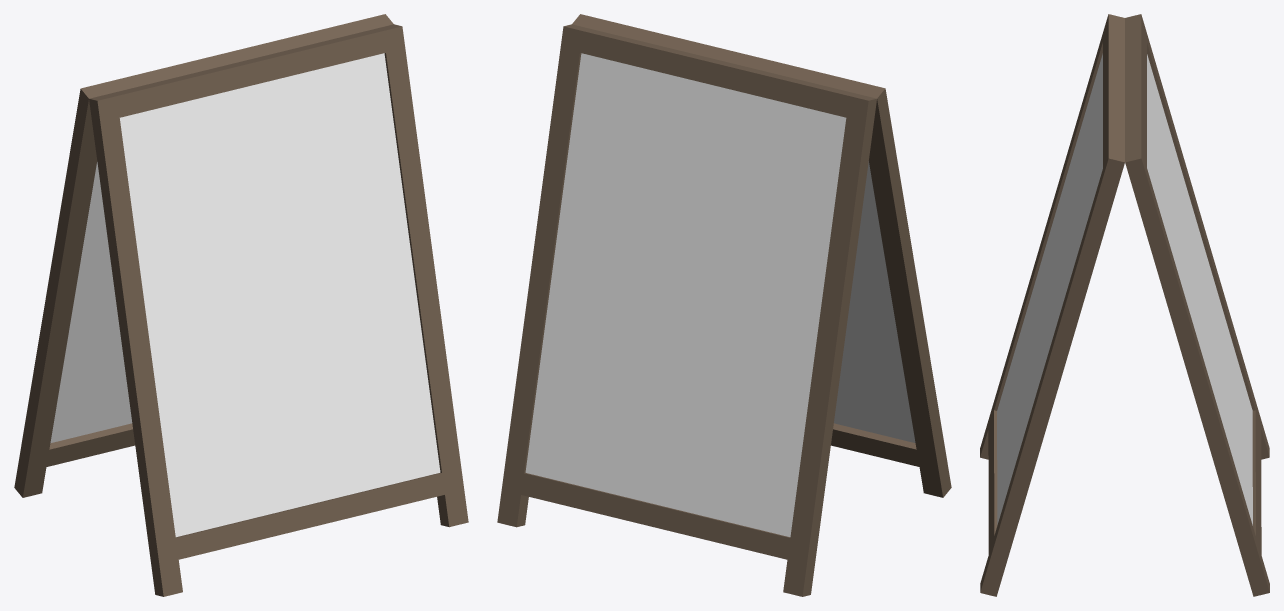
File: sign.fbx
The picture shows the model from 3 angles, left to right: view 1: azimuth 30°, elevation 25°; view 2: azimuth 150°, elevation 25°; view 3: azimuth 270°, elevation 25°; orthographic projection. The views are drawn at different scales.
Visible parts, largest first — view 1: sign; view 2: sign; view 3: sign.
Boxes of the visible parts, bbox=[...] form: sign: bbox=[14, 14, 468, 596]; sign: bbox=[497, 14, 951, 596]; sign: bbox=[980, 14, 1269, 596].
Bounding box in the file's own units: 63.64 × 90.02 × 53.94.
Materials: 1 (1 with a texture image).
